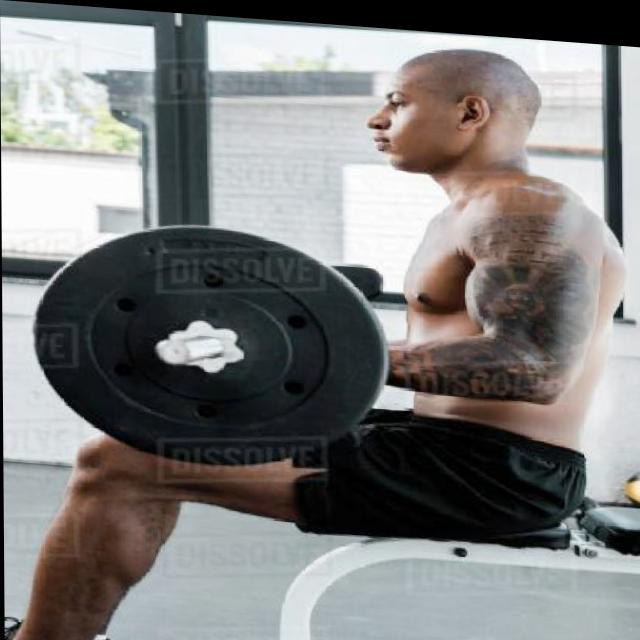barbell: (24, 196, 396, 476)
